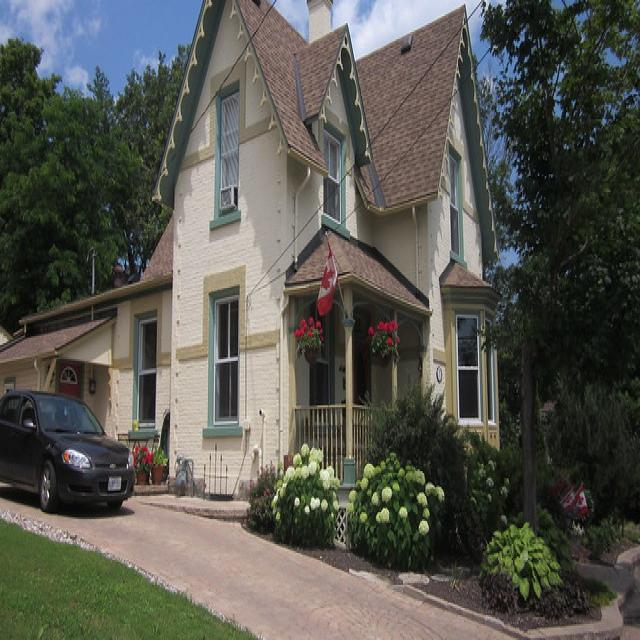Normal_building: (124, 2, 515, 524)
